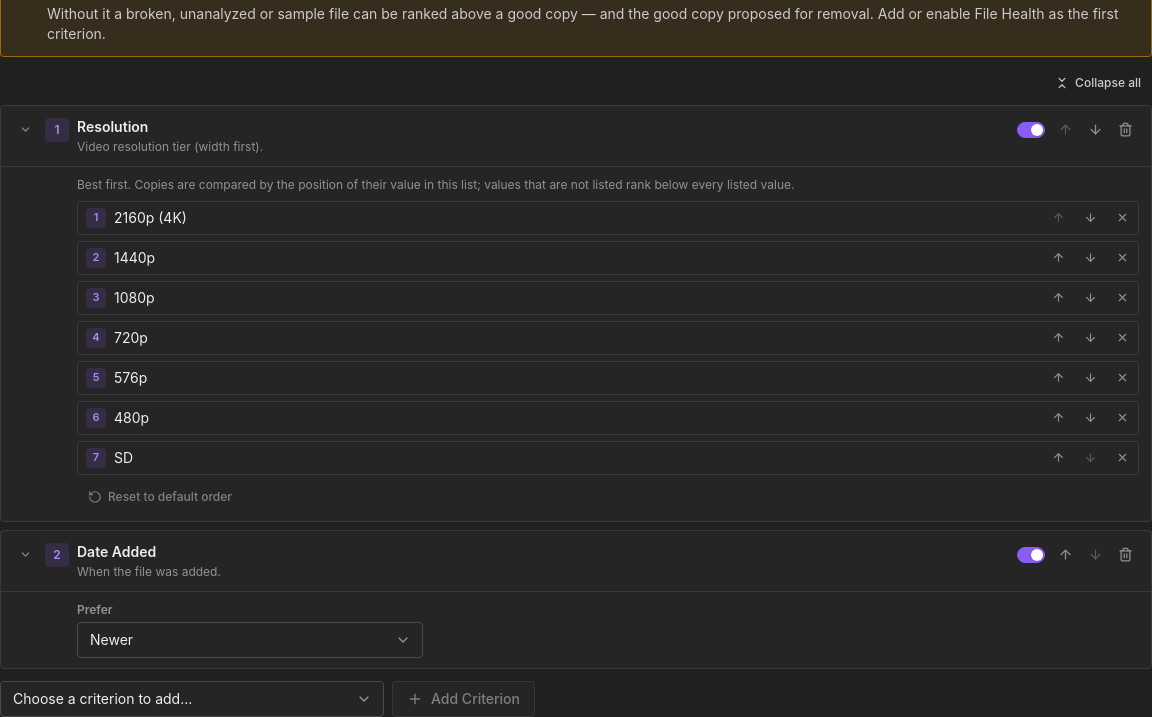
it: <CriteriaBuilder> › adds only unused criteria, putting health first
(page scrolled)
Expected: the button "Add Criterion" is disabled, x1=392 y1=681 x2=535 y2=716
Select "File Health" in the dropdown named "Add criterion" at (192,699), box x1=0 y1=681 x2=384 y2=716
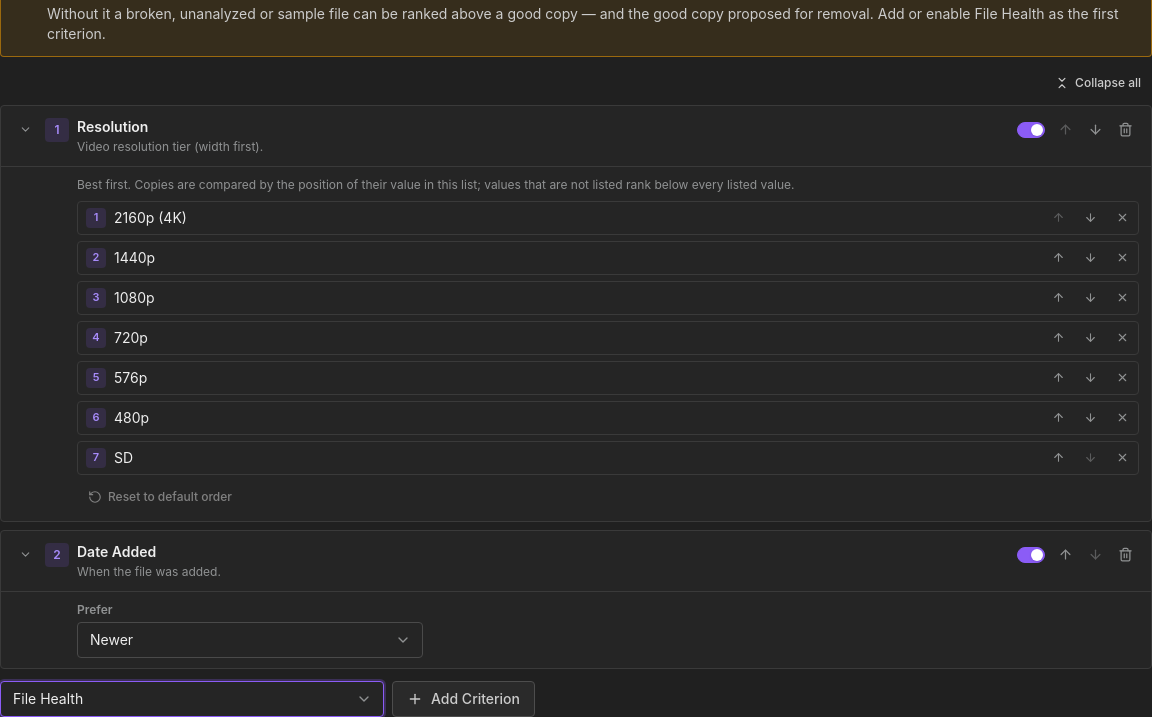
Click the button "Add Criterion" at (464,699), box x1=392 y1=681 x2=535 y2=716
(page scrolled)
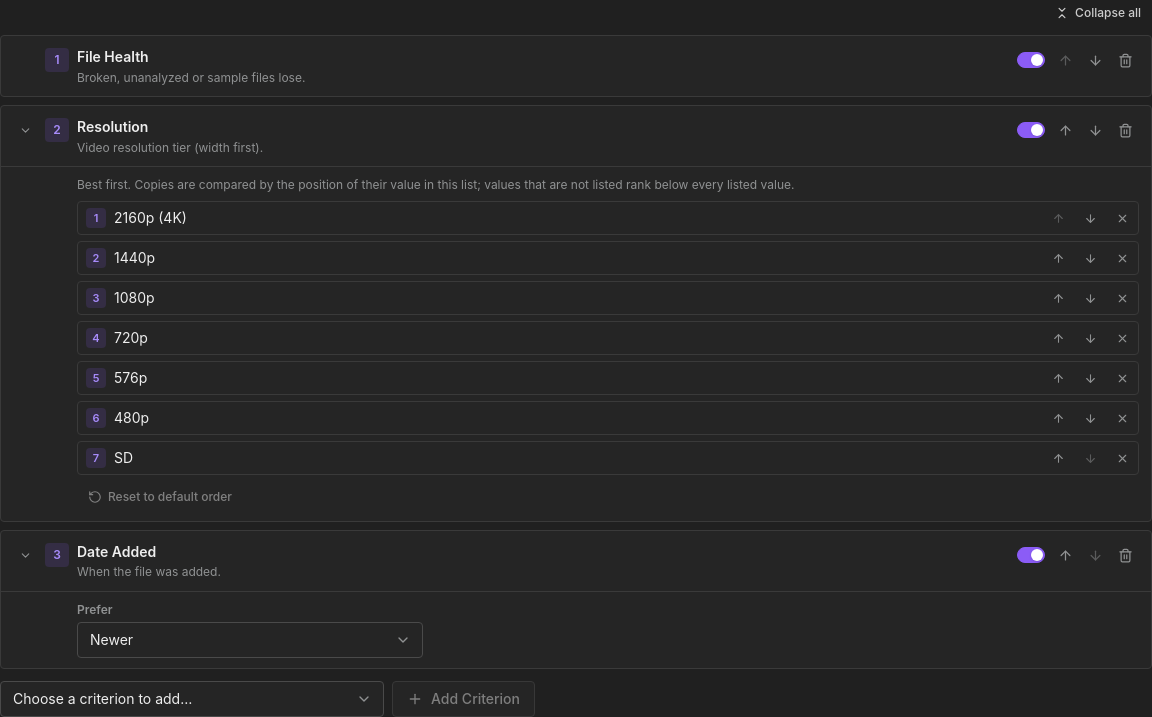
Select "File Size" in the dropdown named "Add criterion" at (192,699), box x1=0 y1=681 x2=384 y2=716
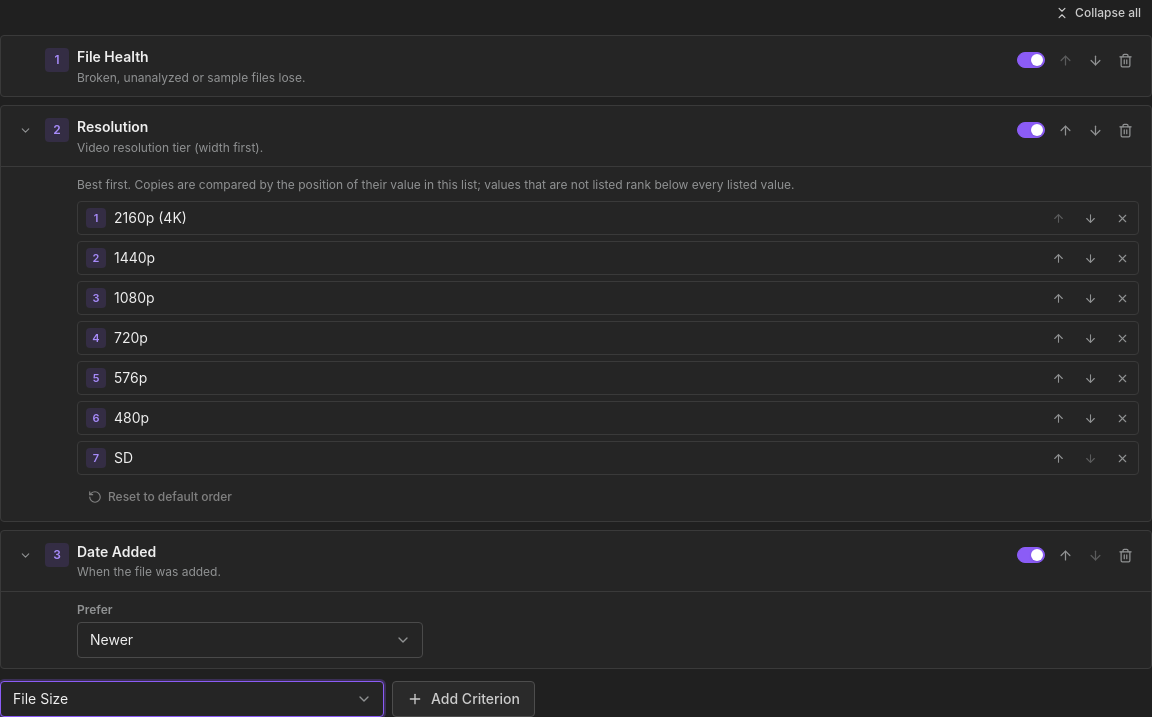
Click the button "Add Criterion" at (464,699), box x1=392 y1=681 x2=535 y2=716
(page scrolled)
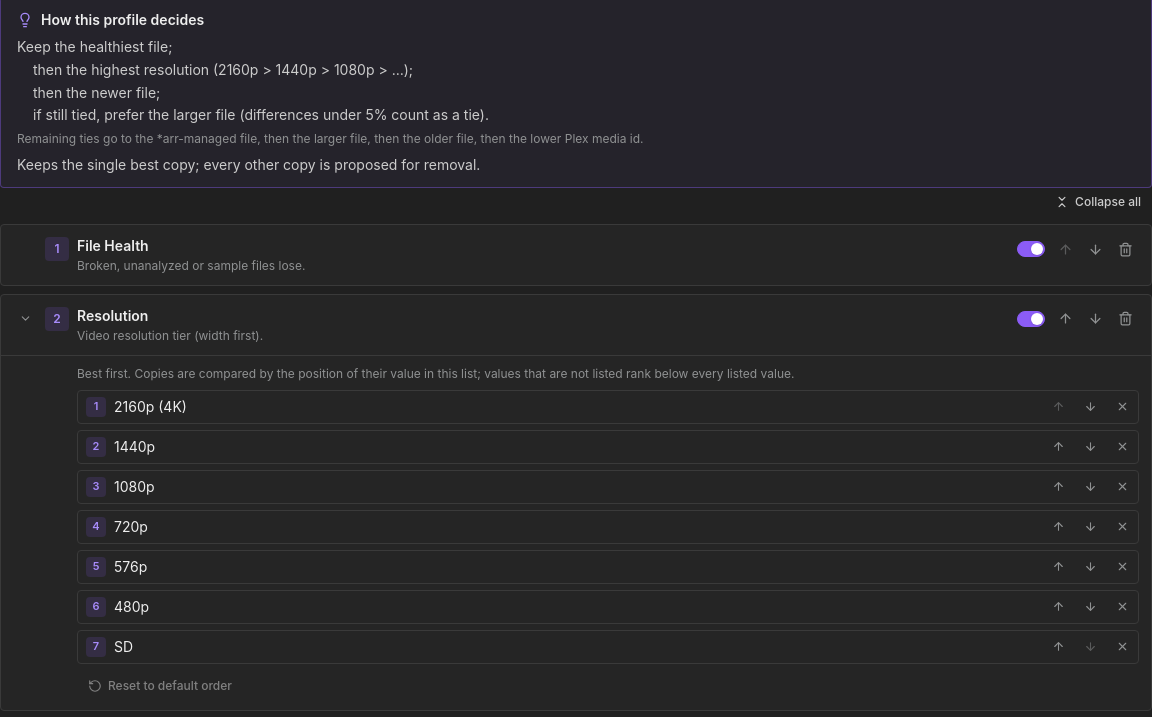
Expected: the element that starts with "Keep the healthiest file" shows "if still tied, prefer the larger file (differences under 5% count as a tie).", x1=17 y1=38 x2=489 y2=123
